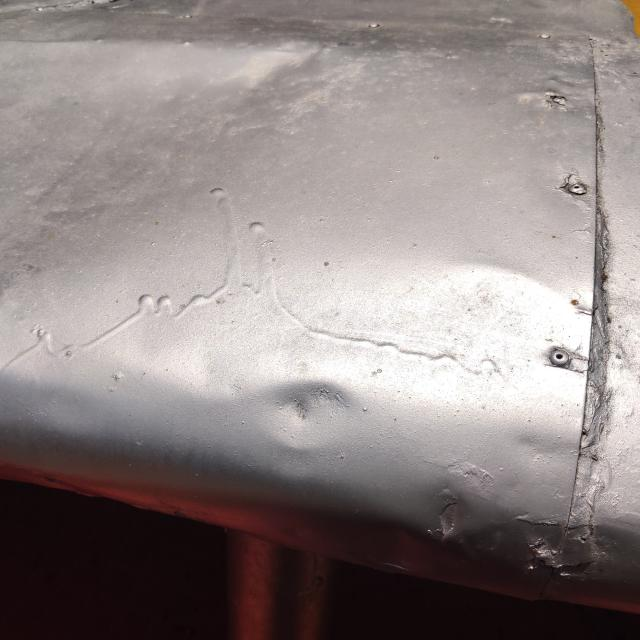dent: (241, 350, 390, 486), (390, 461, 508, 565)
